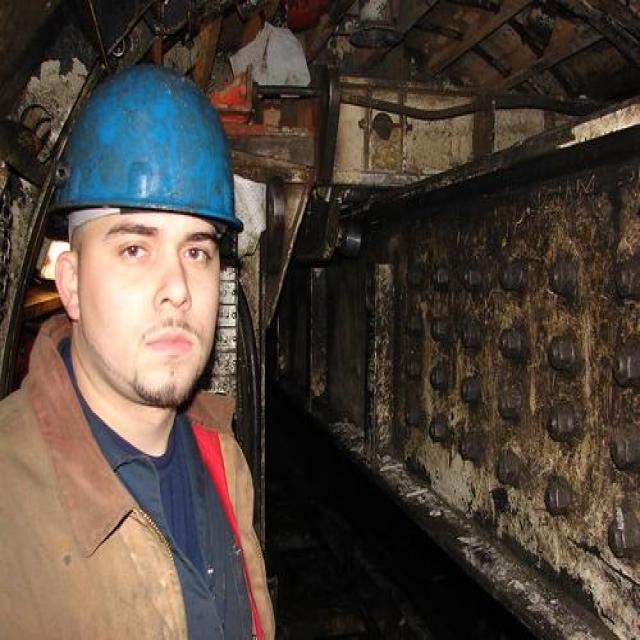Reflective-Jacket: (0, 365, 291, 640)
Safety-Helmet: (47, 56, 256, 241)
